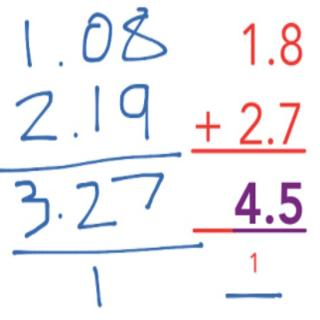.: (267, 54, 276, 68), (56, 58, 66, 69), (265, 213, 275, 224), (266, 136, 276, 146), (56, 211, 65, 221), (71, 130, 80, 139)
0: (79, 9, 112, 64)
1: (239, 22, 259, 67), (20, 17, 36, 69), (91, 263, 104, 309), (91, 83, 102, 135), (249, 250, 260, 274)
2: (14, 88, 60, 145), (73, 179, 117, 229), (238, 100, 265, 147)
3: (13, 179, 52, 239)
4: (233, 180, 262, 225)
5: (279, 178, 303, 225)
7: (109, 171, 166, 211), (278, 100, 302, 146)
8: (119, 5, 169, 66), (280, 19, 304, 68)
9: (118, 83, 153, 143)
